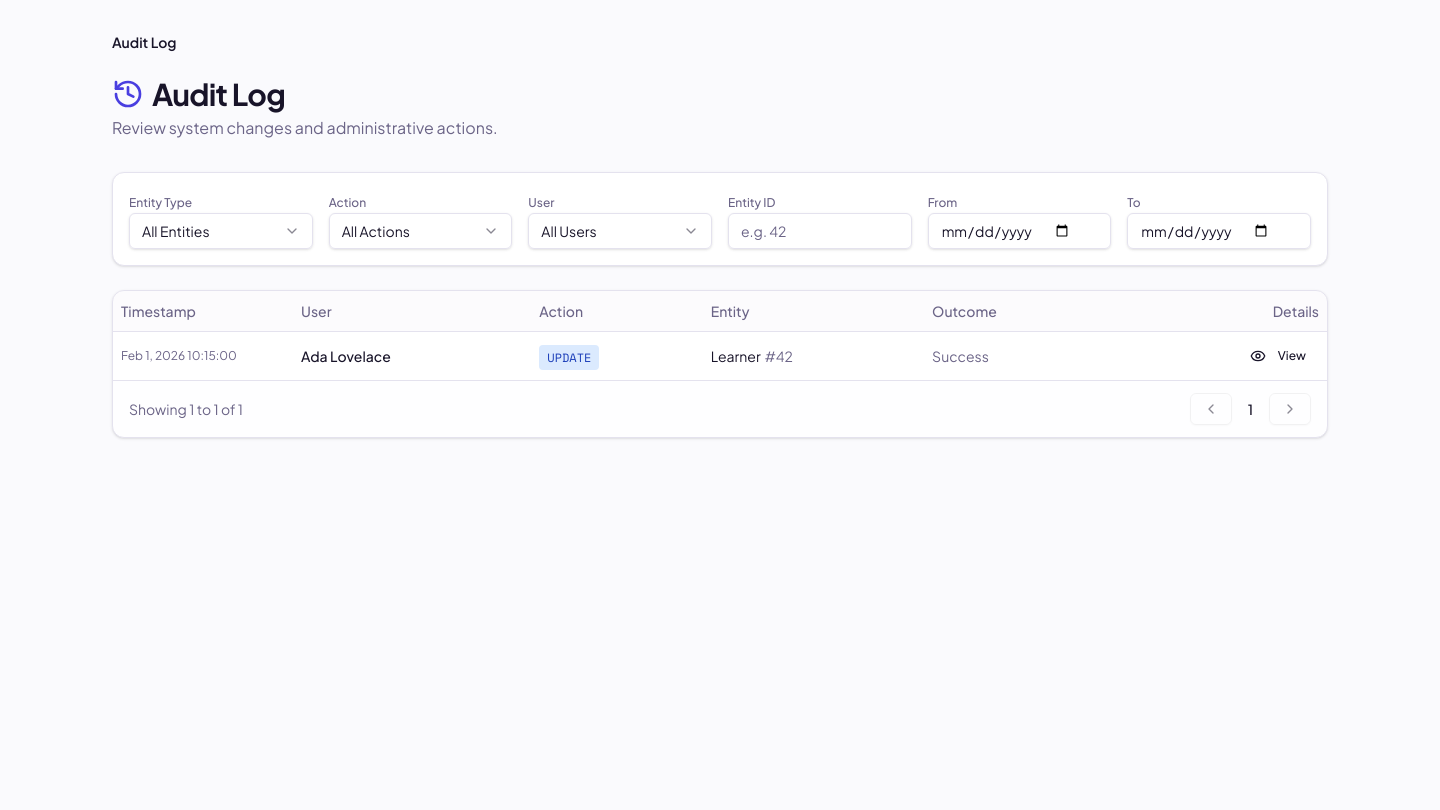
Test case: AuditLogPage › shows a field-level diff, the correlation ID, and the IP address in the detail dialog
The width and height of the screenshot is (1440, 810).
Click the button "View" at (1278, 356), box [1237,340,1319,372]
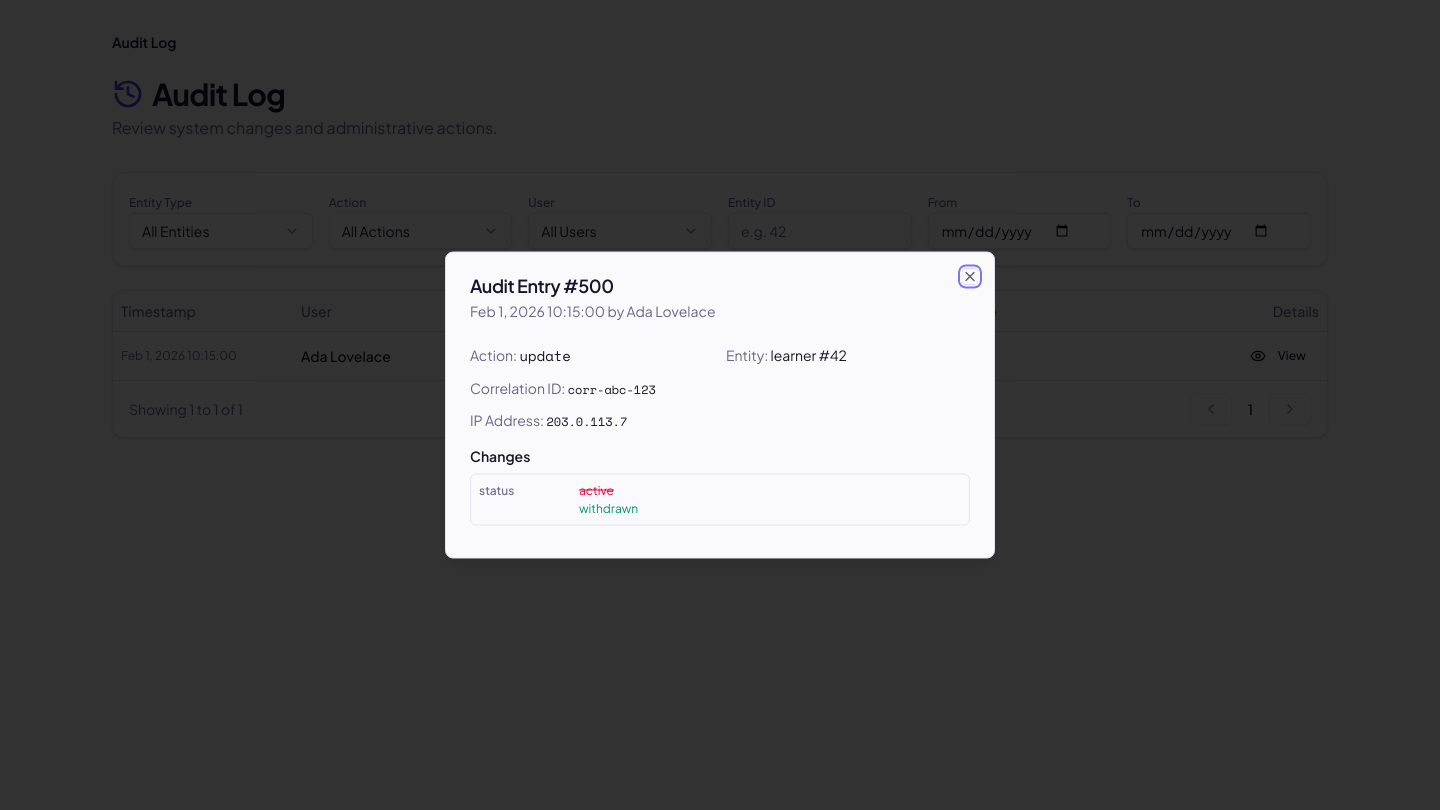
expect the text "corr-abc-123" is shown: met, box [568,380,656,398]
expect the text "203.0.113.7" is shown: met, box [546,412,627,430]
expect the text "status" is shown: met, box [479,482,514,498]
